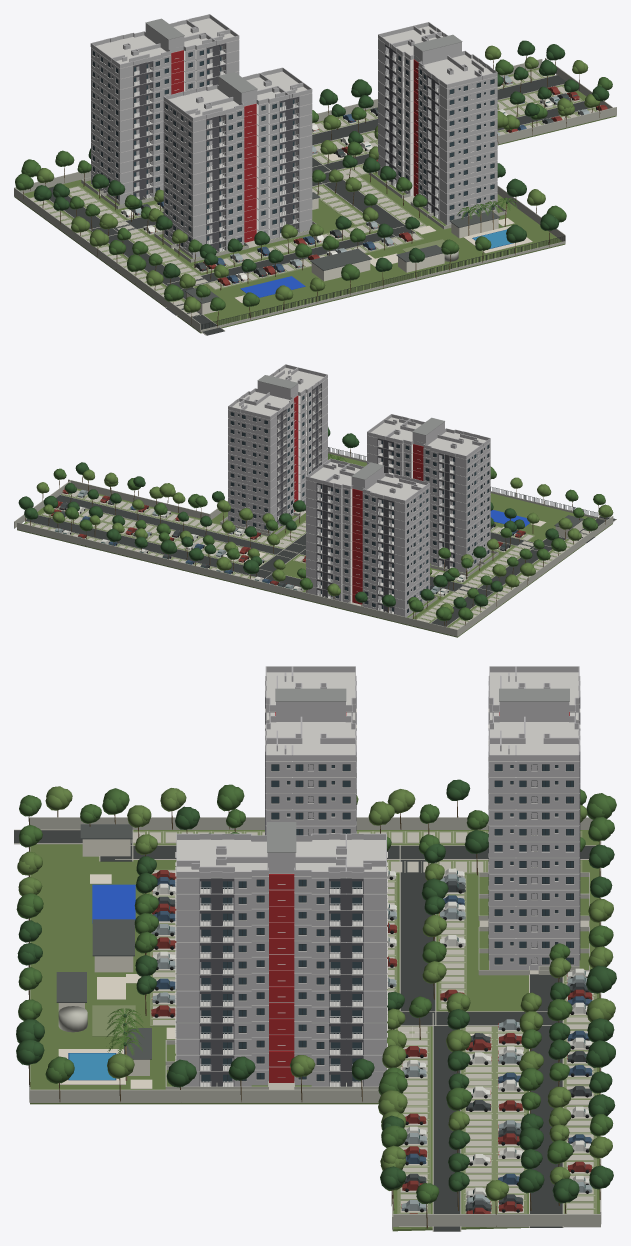
Rendered from laranjeiras.glb.
3 views of the same model, one above another, from view 1: azimuth 30°, elevation 25°; view 2: azimuth 150°, elevation 25°; view 3: azimuth 270°, elevation 25° (orthographic). The views are drawn at different scales.
Parts seen in each view (by area): view 1: GEO-SITE-site-grama, GEO-implantacao-site-piso, GEO-implantacao-site-muro, GEO-implantacao-site-asfalto, GEO-implantacao-site-permeavel, GEO-T03-cobertura-00-reboco, GEO-T01-cobertura-00-reboco, GEO-T02-cobertura-00-reboco, GEO-implantacao-site-metal, GEO-T01-lajes-13-laje, GEO-T03-lajes-13-laje, GEO-implantacao-site-reboco (+42 smaller); view 2: GEO-implantacao-site-muro, GEO-implantacao-site-piso, GEO-implantacao-site-asfalto, GEO-SITE-site-grama, GEO-implantacao-site-permeavel, GEO-T03-cobertura-00-reboco, GEO-T01-cobertura-00-reboco, GEO-T02-cobertura-00-reboco, GEO-T03-lajes-13-laje, GEO-T01-lajes-13-laje, GEO-T02-lajes-13-laje, GEO-T03-paredes-04-reboco (+36 smaller); view 3: GEO-SITE-site-grama, GEO-implantacao-site-asfalto, GEO-implantacao-site-piso, GEO-implantacao-site-muro, GEO-implantacao-site-permeavel, GEO-T02-cobertura-00-reboco, GEO-T02-lajes-13-laje, GEO-implantacao-site-cobertura, GEO-T01-lajes-13-laje, GEO-T03-lajes-13-laje, GEO-T01-cobertura-00-reboco, GEO-T03-cobertura-00-reboco (+38 smaller).
Boxes of the visible parts, bbox=[...] form: GEO-SITE-site-grama: bbox=[14, 68, 616, 333]; GEO-implantacao-site-piso: bbox=[29, 70, 598, 335]; GEO-implantacao-site-muro: bbox=[14, 58, 616, 332]; GEO-implantacao-site-asfalto: bbox=[49, 75, 598, 335]; GEO-implantacao-site-permeavel: bbox=[29, 69, 597, 302]; GEO-T03-cobertura-00-reboco: bbox=[90, 14, 239, 68]; GEO-T01-cobertura-00-reboco: bbox=[163, 67, 312, 121]; GEO-T02-cobertura-00-reboco: bbox=[378, 22, 497, 88]; GEO-implantacao-site-metal: bbox=[201, 236, 565, 329]; GEO-T01-lajes-13-laje: bbox=[165, 71, 311, 122]; GEO-T03-lajes-13-laje: bbox=[91, 18, 238, 68]; GEO-implantacao-site-reboco: bbox=[186, 198, 498, 314]; GEO-implantacao-site-muro: bbox=[14, 451, 613, 636]; GEO-implantacao-site-piso: bbox=[26, 490, 616, 629]; GEO-implantacao-site-asfalto: bbox=[26, 495, 615, 626]; GEO-SITE-site-grama: bbox=[17, 453, 612, 637]; GEO-implantacao-site-permeavel: bbox=[25, 489, 574, 628]; GEO-T03-cobertura-00-reboco: bbox=[306, 458, 429, 503]; GEO-T01-cobertura-00-reboco: bbox=[367, 414, 490, 458]; GEO-T02-cobertura-00-reboco: bbox=[228, 364, 327, 419]; GEO-T03-lajes-13-laje: bbox=[307, 462, 427, 503]; GEO-T01-lajes-13-laje: bbox=[367, 417, 489, 459]; GEO-T02-lajes-13-laje: bbox=[228, 367, 325, 419]; GEO-T03-paredes-04-reboco: bbox=[306, 550, 429, 582]; GEO-SITE-site-grama: bbox=[30, 830, 599, 1231]; GEO-implantacao-site-asfalto: bbox=[14, 830, 594, 1231]; GEO-implantacao-site-piso: bbox=[14, 829, 595, 1231]; GEO-implantacao-site-muro: bbox=[29, 817, 601, 1229]; GEO-implantacao-site-permeavel: bbox=[92, 831, 596, 1227]; GEO-T02-cobertura-00-reboco: bbox=[176, 833, 386, 877]; GEO-T02-lajes-13-laje: bbox=[177, 839, 386, 878]; GEO-implantacao-site-cobertura: bbox=[56, 824, 151, 1059]; GEO-T01-lajes-13-laje: bbox=[266, 672, 356, 761]; GEO-T03-lajes-13-laje: bbox=[489, 672, 578, 761]; GEO-T01-cobertura-00-reboco: bbox=[265, 666, 356, 760]; GEO-T03-cobertura-00-reboco: bbox=[488, 666, 580, 760].
Bounding box in the file's own units: 153 × 40.6 × 95.07.
